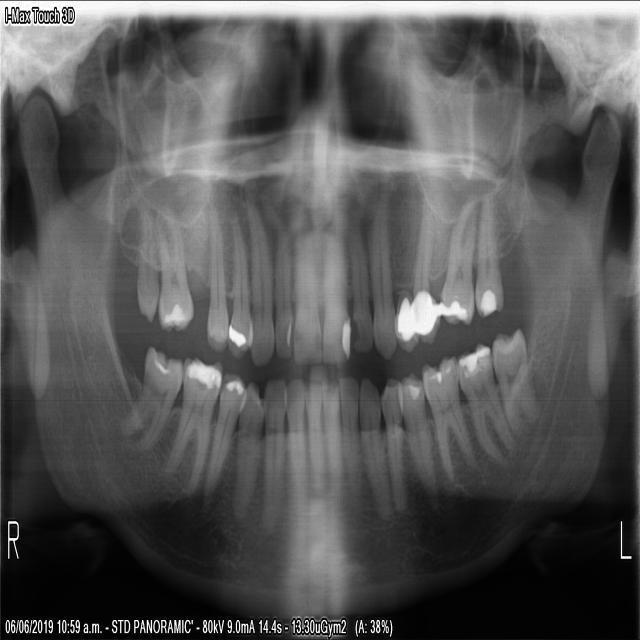LCD: (358, 377, 393, 519)
LCU: (369, 199, 397, 359)
LID: (339, 374, 366, 498), (323, 379, 346, 497)
LIU: (321, 207, 352, 372), (351, 209, 375, 352)
LMD: (458, 339, 515, 473), (417, 358, 476, 480), (491, 322, 538, 443)
LMU: (438, 189, 478, 329), (474, 193, 508, 318)
LPMD: (399, 374, 437, 508), (381, 380, 410, 515)
LPMU: (412, 198, 441, 345), (396, 203, 419, 359)
RCD: (263, 372, 286, 528)
RCU: (244, 197, 274, 368)
RID: (304, 378, 326, 509), (285, 377, 307, 505)
RIU: (292, 210, 323, 370), (272, 214, 293, 363)
RMD: (160, 353, 222, 495), (120, 343, 183, 454)
RMU: (155, 209, 194, 333), (134, 205, 158, 322)
RPMD: (200, 369, 243, 502), (231, 379, 262, 519)
RPMU: (227, 205, 252, 358), (206, 200, 230, 350)
